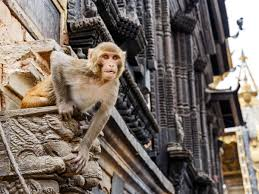monkey: (32, 32, 136, 158)
